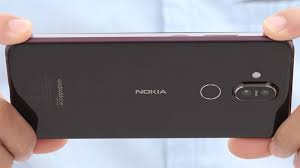nokia: (3, 27, 295, 143)
